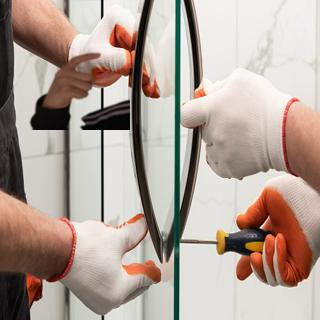WHY: (42, 48, 102, 109)
